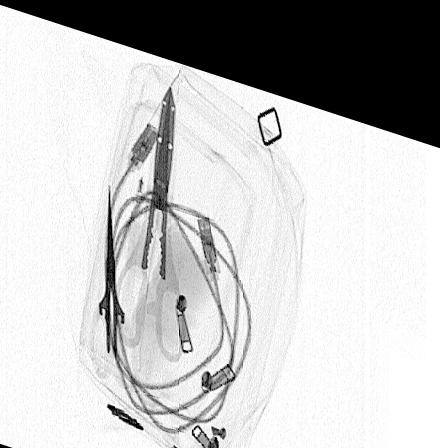Scissors: (110, 72, 188, 353), (88, 173, 141, 383)
